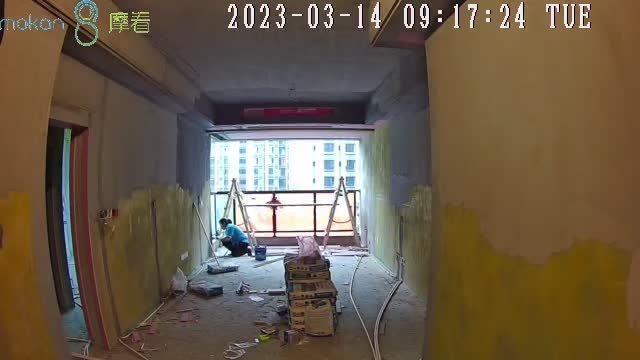people: (217, 218, 248, 258)
window: (212, 140, 362, 236)
